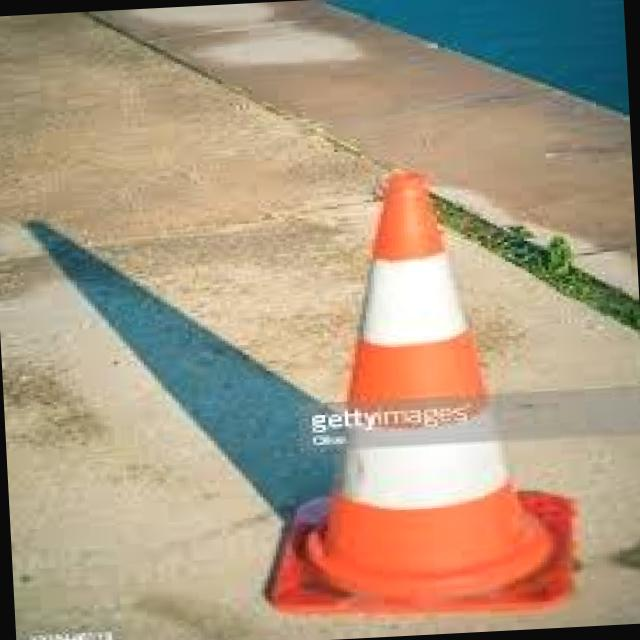cone: (243, 161, 573, 624)
